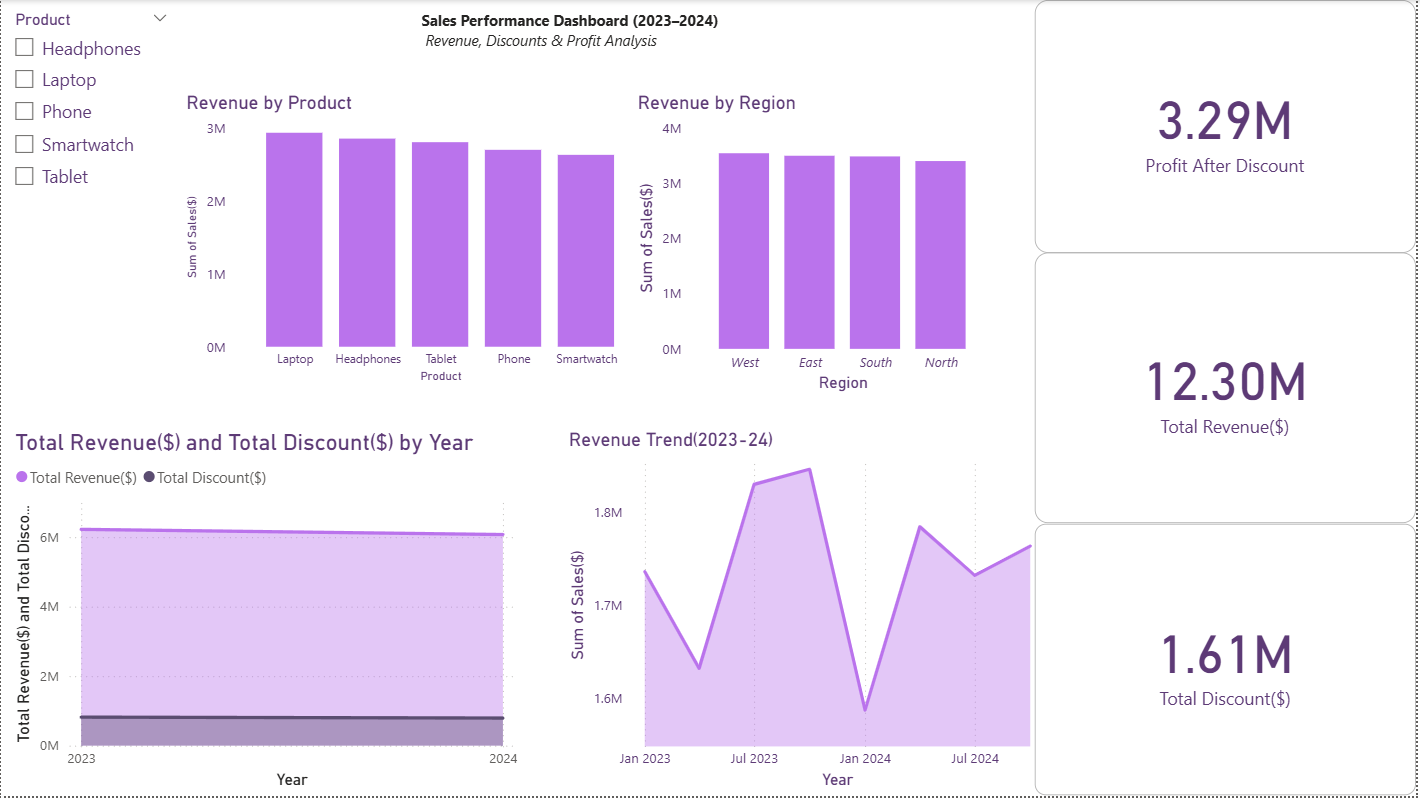

The dashboard page shown, as its layout file describes it:
{"tool":"powerbi","page":{"name":"Page 1","canvas":[1280,720],"ordinal":0},"visuals":[{"type":"clusteredColumnChart","title":"Revenue by Product","fields":{"Category":["sales_db sales.product"],"Y":["Sum(sales_db sales.sales_usd)"]},"box":[162.8,82.5,425.1,269.1],"z":0},{"type":"clusteredColumnChart","title":"Revenue by Region","fields":{"Category":["sales_db sales.region"],"Y":["Sum(sales_db sales.sales_usd)"]},"box":[571,82.5,332.4,277],"z":1},{"type":"lineChart","title":"Revenue Trend(2023-24)","fields":{"Category":["sales_db sales.order_date.Variation.Date Hierarchy.Year","sales_db sales.order_date.Variation.Date Hierarchy.Quarter","sales_db sales.order_date.Variation.Date Hierarchy.Month","sales_db sales.order_date.Variation.Date Hierarchy.Day"],"Y":["Sum(sales_db sales.sales_usd)"]},"box":[508.9,388.4,449.4,330.3],"z":2},{"type":"actionButton","box":[0,0,100,40],"z":4},{"type":"areaChart","fields":{"Y":["KPI Measure.Total Revenue(USD)","KPI Measure.Total Discount(USD)"],"Category":["Sales Data.Order Date.Variation.Date Hierarchy.Year","Sales Data.Order Date.Variation.Date Hierarchy.Month"]},"box":[7.4,388.4,464.3,330.3],"z":5},{"type":"card","fields":{"Values":["sales_db sales.Profit After Discount"]},"box":[935.3,0,344.7,228.8],"z":6},{"type":"card","fields":{"Values":["Measure.Discount Amount"]},"box":[935.3,473.4,344.7,246],"z":7},{"type":"card","fields":{"Values":["Measure.Net Revenue"]},"box":[935.3,228.8,344.7,244.6],"z":8},{"type":"slicer","fields":{"Values":["Sales Data.Product"]},"box":[0,4.3,163,184.5],"z":9},{"type":"textbox","box":[375.4,4.5,290.6,50.9],"z":10}]}

Visuals, with their boxes in screenshot pixels (x1, y1, x2, y2), scaled from the page's 1280x720 canvas onto the 1420x798 screenshot:
"Revenue by Product" clusteredColumnChart: detection(181, 91, 652, 390)
"Revenue by Region" clusteredColumnChart: detection(633, 91, 1002, 398)
"Revenue Trend(2023-24)" lineChart: detection(565, 430, 1063, 797)
actionButton: detection(0, 0, 111, 44)
areaChart - KPI Measure.Total Revenue(USD) x KPI Measure.Total Discount(USD): detection(8, 430, 523, 797)
card - sales_db sales.Profit After Discount: detection(1038, 0, 1419, 254)
card - Measure.Discount Amount: detection(1038, 525, 1419, 797)
card - Measure.Net Revenue: detection(1038, 254, 1419, 525)
slicer - Sales Data.Product: detection(0, 5, 181, 209)
textbox: detection(416, 5, 739, 61)
